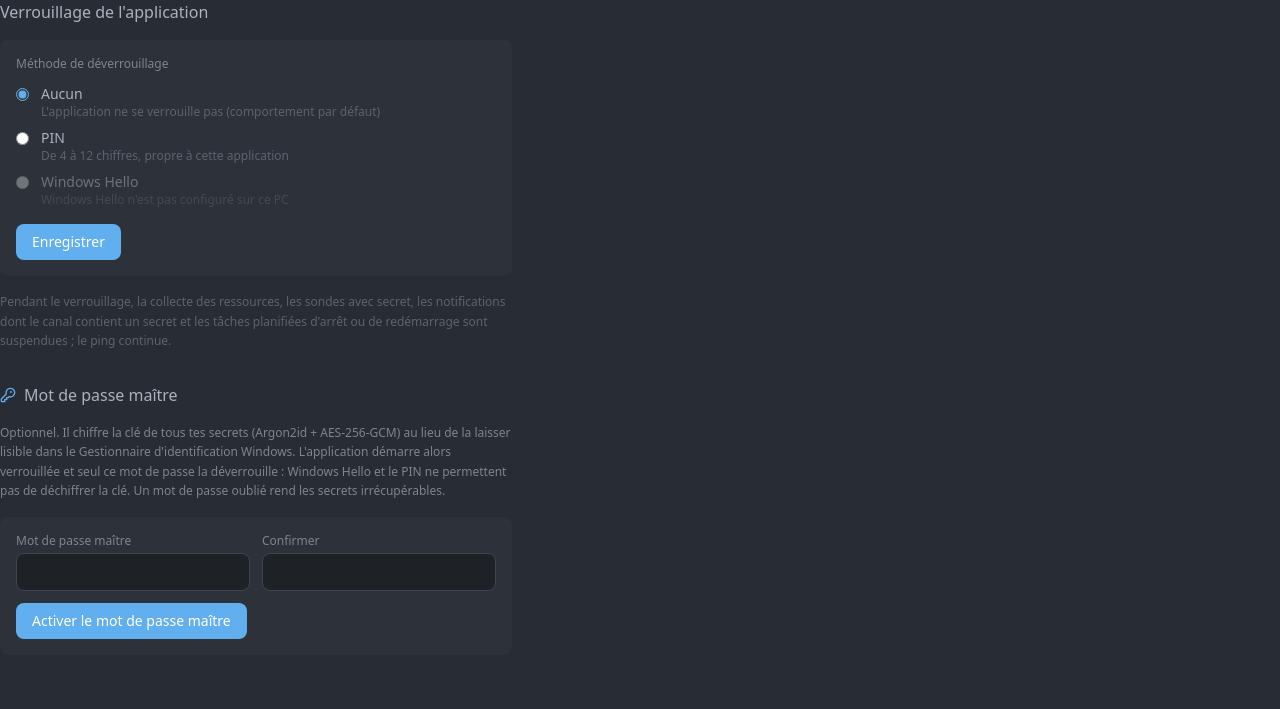
Test case: SecuritySettings › mot de passe maître : confirmation qui prévient de la perte définitive
In the password field labelled "Mot de passe maître": [133, 572] box [16,552,250,590], type "phrase secrète"
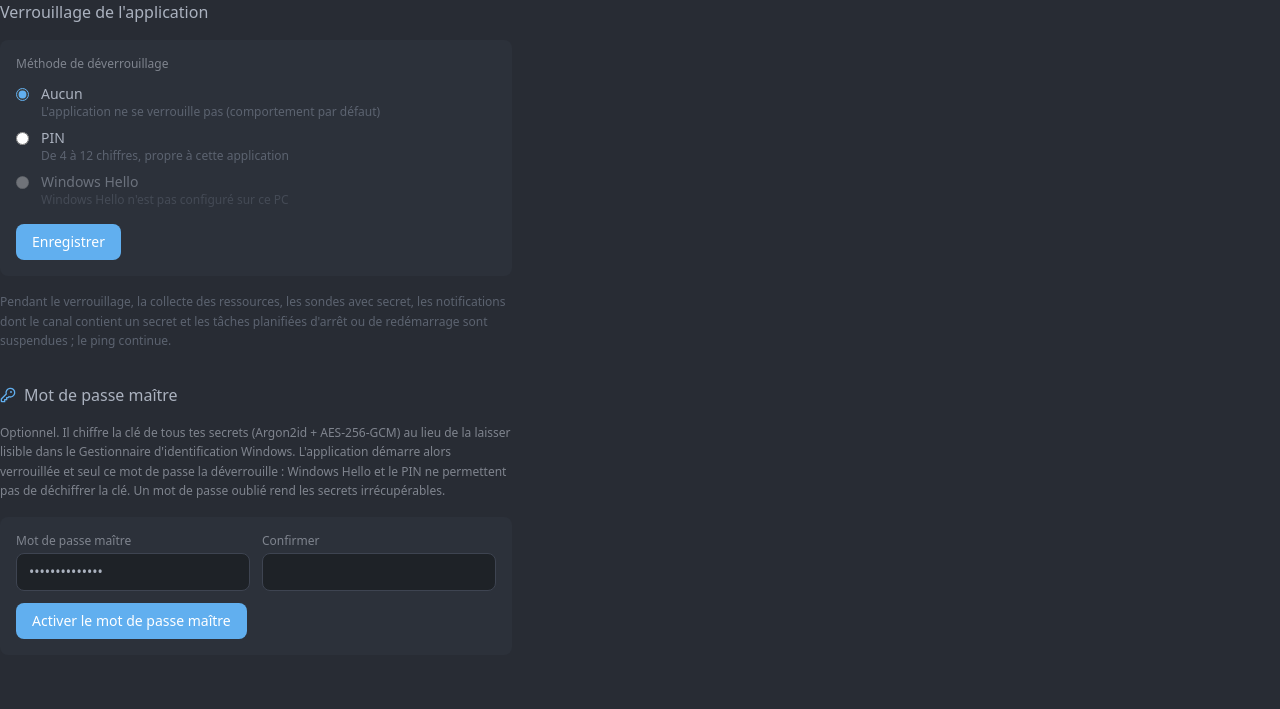
In the password field named "Confirmer le mot de passe maître": [379, 572] box [262,552,496,590], type "phrase secrète"
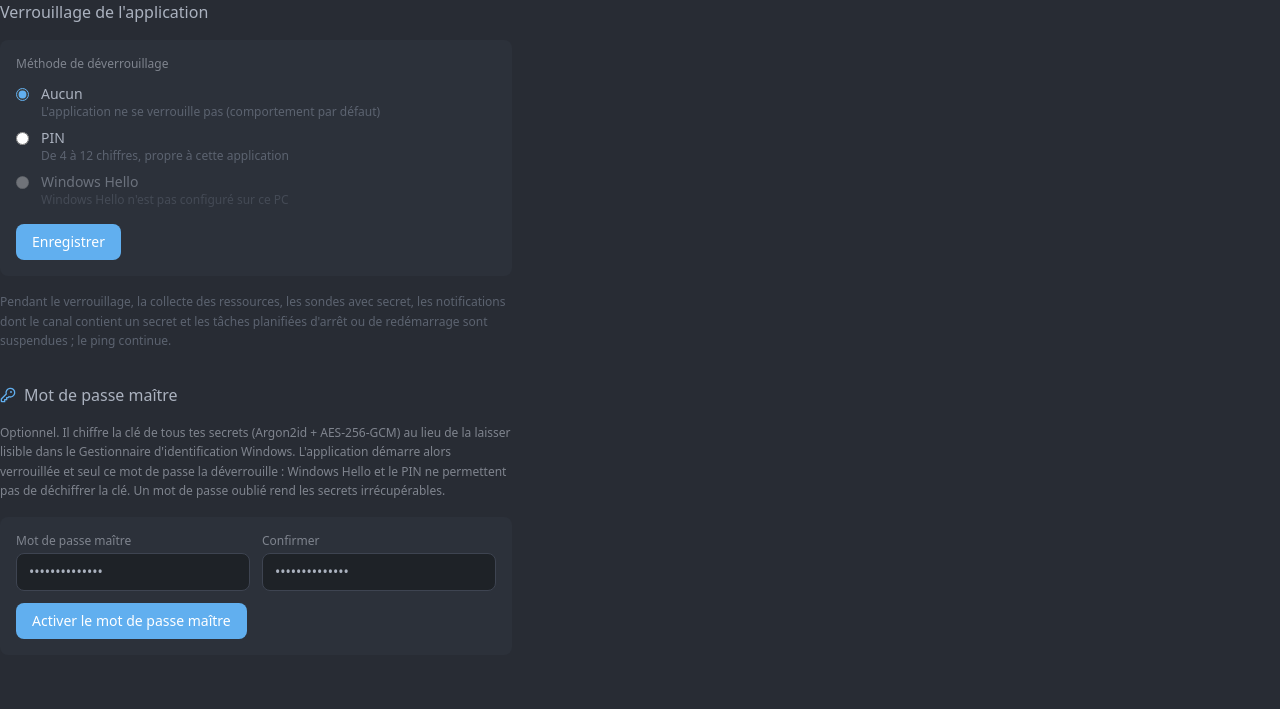
Click the button "Activer le mot de passe maître": [131, 620] box [16,602,247,638]
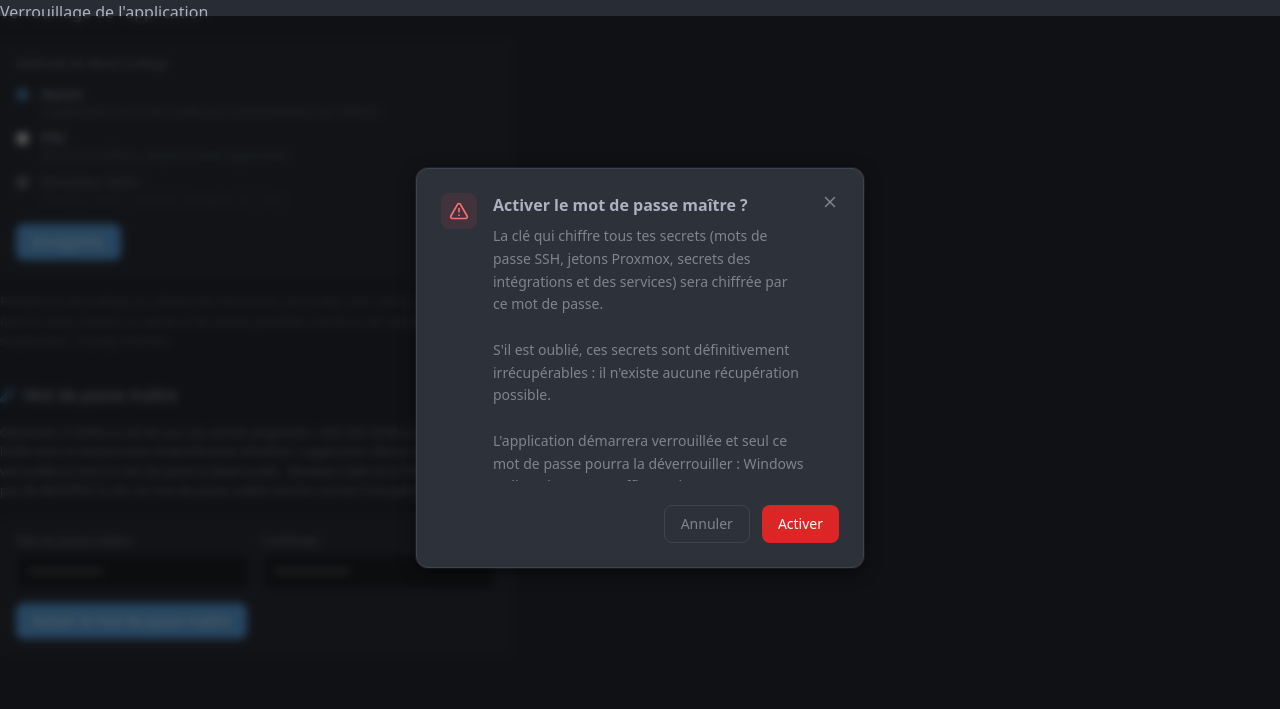
Click the button "Activer": [800, 524] box [762,505,839,543]
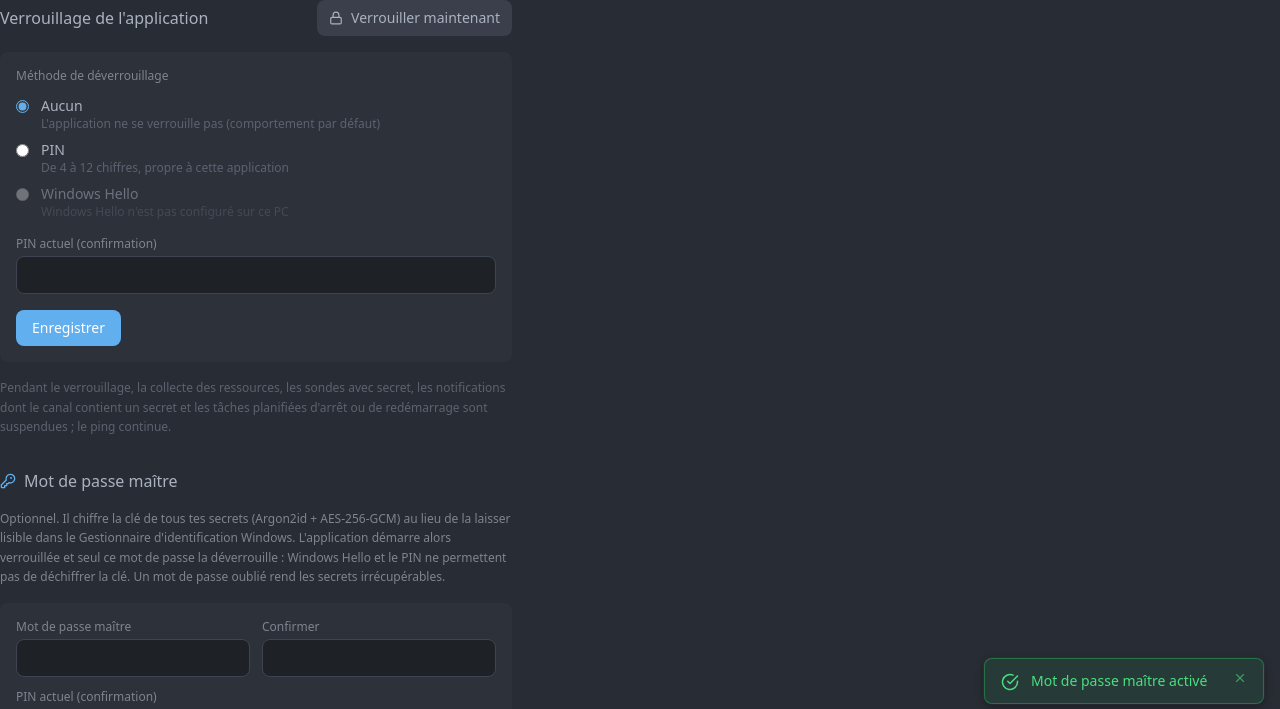
Check: the text "Mot de passe maître activé" is shown, box [1031,671,1221,690]
